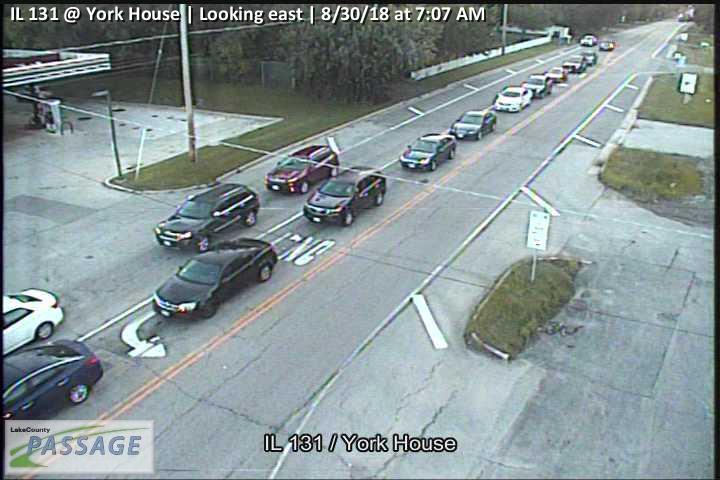SUV: (152, 179, 260, 254), (301, 165, 386, 225), (266, 143, 339, 192)
Sedan: (151, 235, 277, 321), (1, 339, 104, 442), (399, 131, 458, 171), (448, 107, 499, 139), (494, 85, 533, 112), (521, 73, 554, 96), (559, 54, 588, 74), (547, 65, 568, 84)
